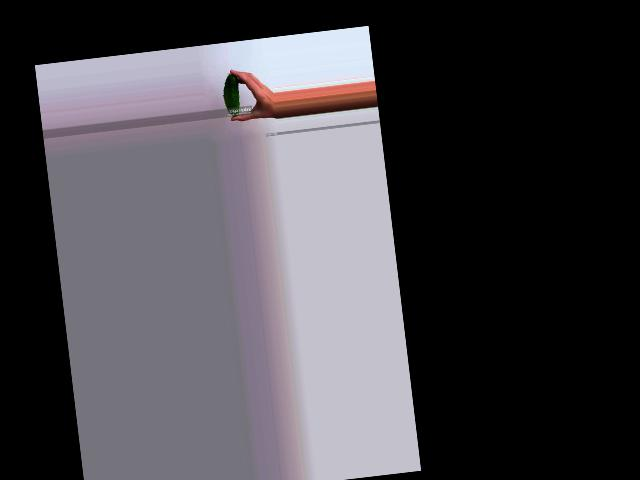cucumber: (220, 73, 241, 117)
